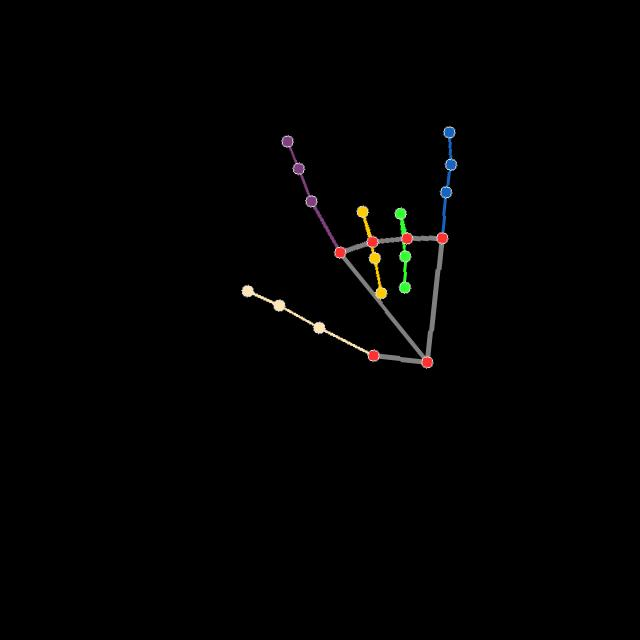spiderman: (244, 112, 458, 367)
